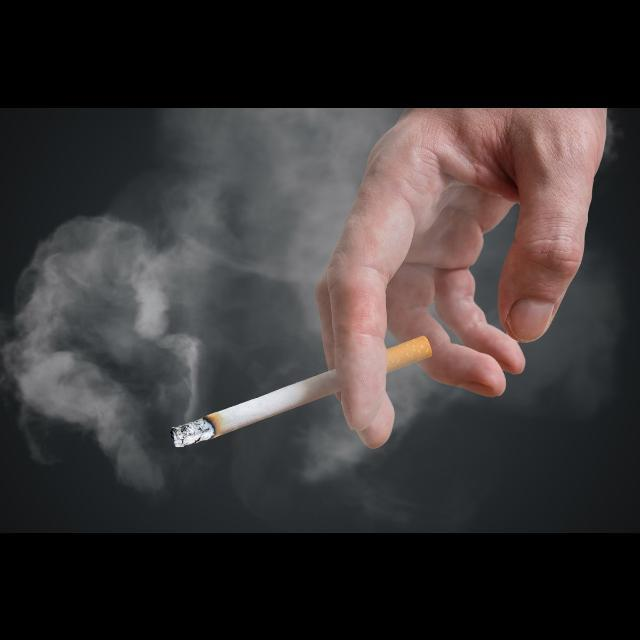rokok: (160, 332, 438, 450)
